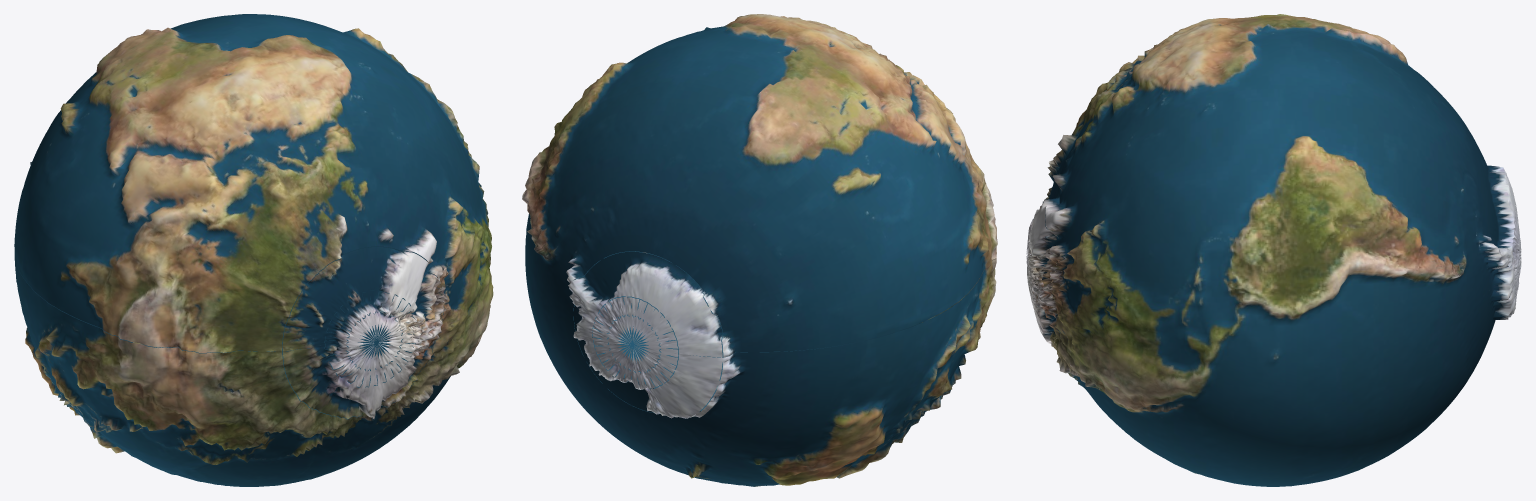
The model's file is earth.glb.
3 views of the same model, side by side, from view 1: azimuth 30°, elevation 25°; view 2: azimuth 150°, elevation 25°; view 3: azimuth 270°, elevation 25° (orthographic). The views are drawn at different scales.
Parts seen in each view (by area): view 1: Sphere_2; view 2: Sphere_2; view 3: Sphere_2.
Part boxes in pixels (x1,y1,x2,y2): Sphere_2: [14, 14, 493, 486]; Sphere_2: [522, 14, 997, 486]; Sphere_2: [1026, 14, 1521, 486].
Size of the model in its own units: 2.2 by 2.16 by 2.27.
1 material, 1 textured.
